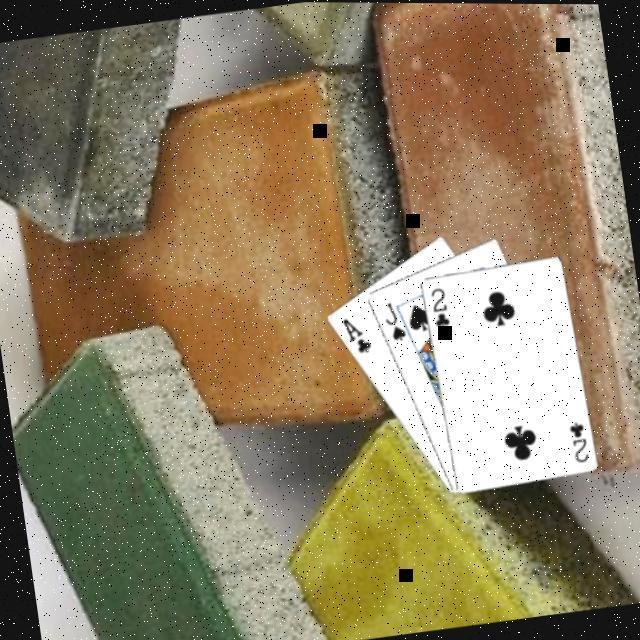2C: (564, 419, 591, 467), (426, 284, 452, 332)
AC: (337, 312, 374, 358)
JS: (378, 297, 409, 346)
